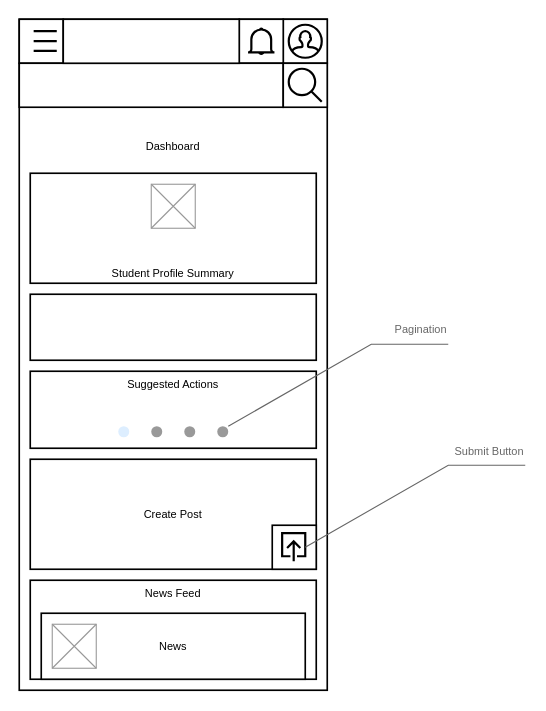
The diagram is 546 pixels wide and 711 high, and some of its shapes have lost their labels. Here are the shapes that lost their labels. From the top down, the centre of each, then its label:
point (151, 41): CareerBound
point (151, 85): Search Bar
point (173, 327): User Analytics
